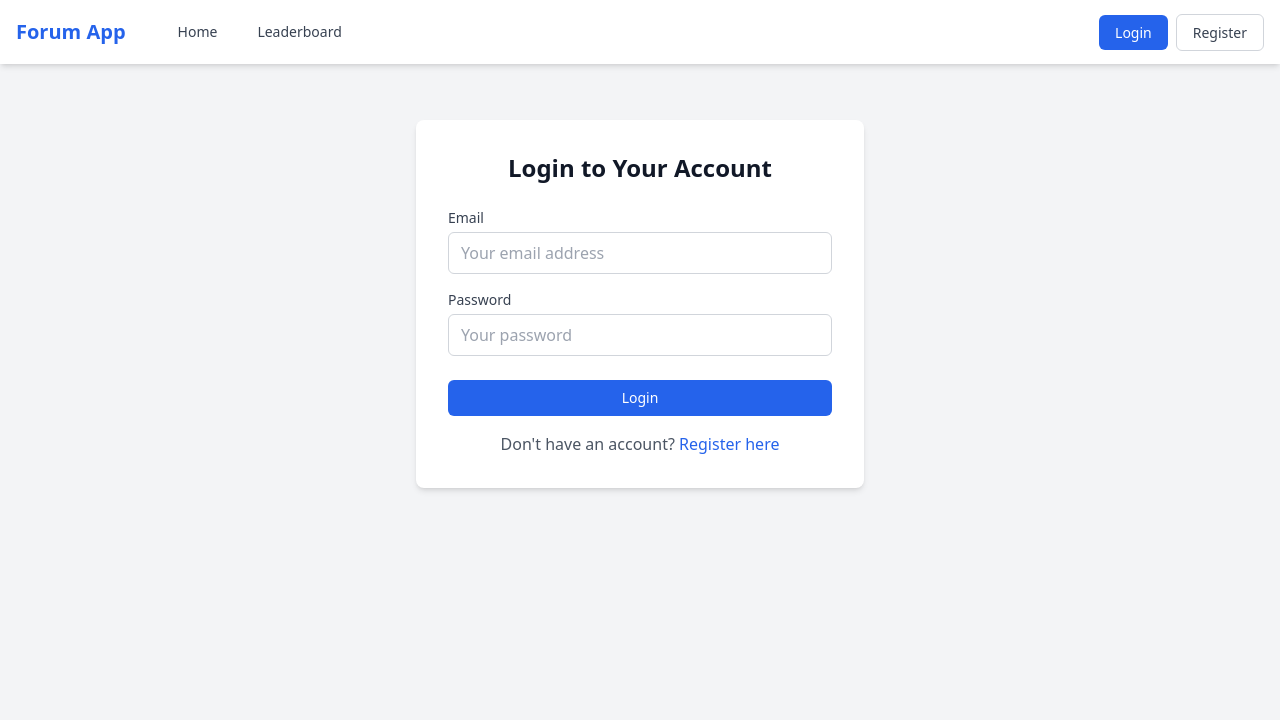
Test: Login Page › should show error message on login failure
Note: Find first input (email)
Type "wrong@example.com" into the field labelled "Email" at coordinates (640, 253), box [448,232,832,274]
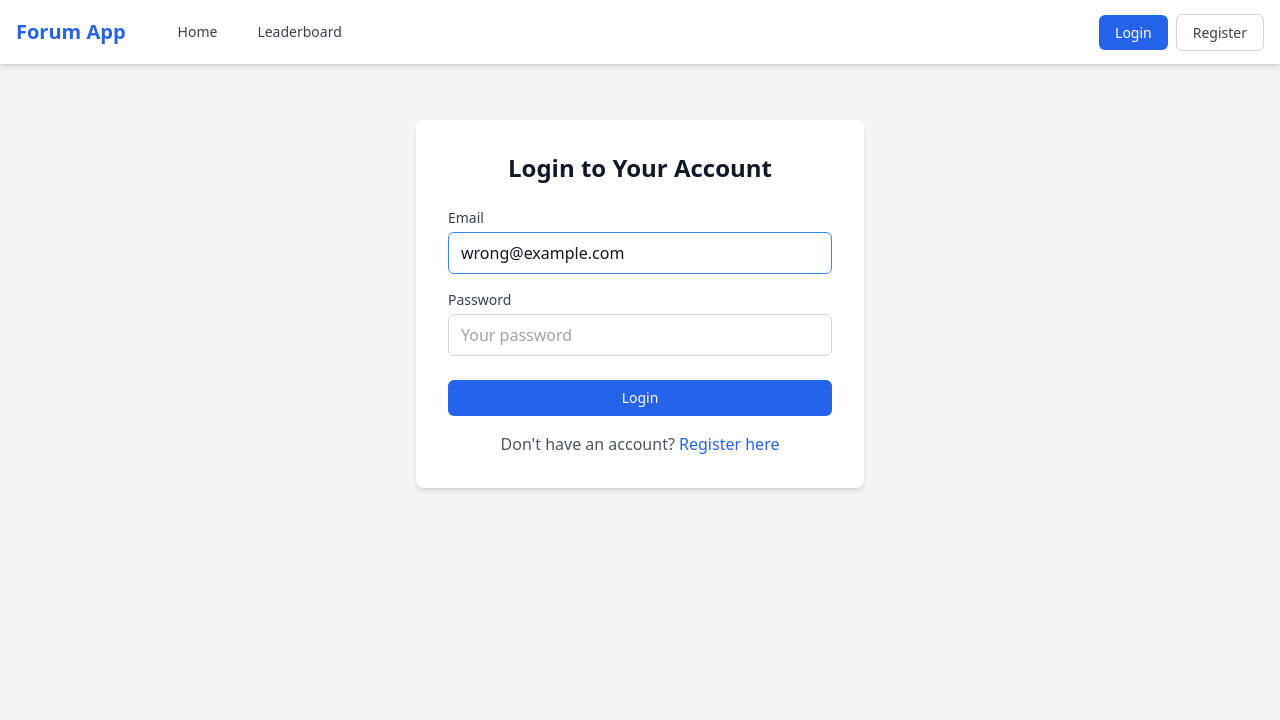
Note: Find password input
Type "wrongpassword" into the password field labelled "Password" at coordinates (640, 335), box [448,314,832,356]
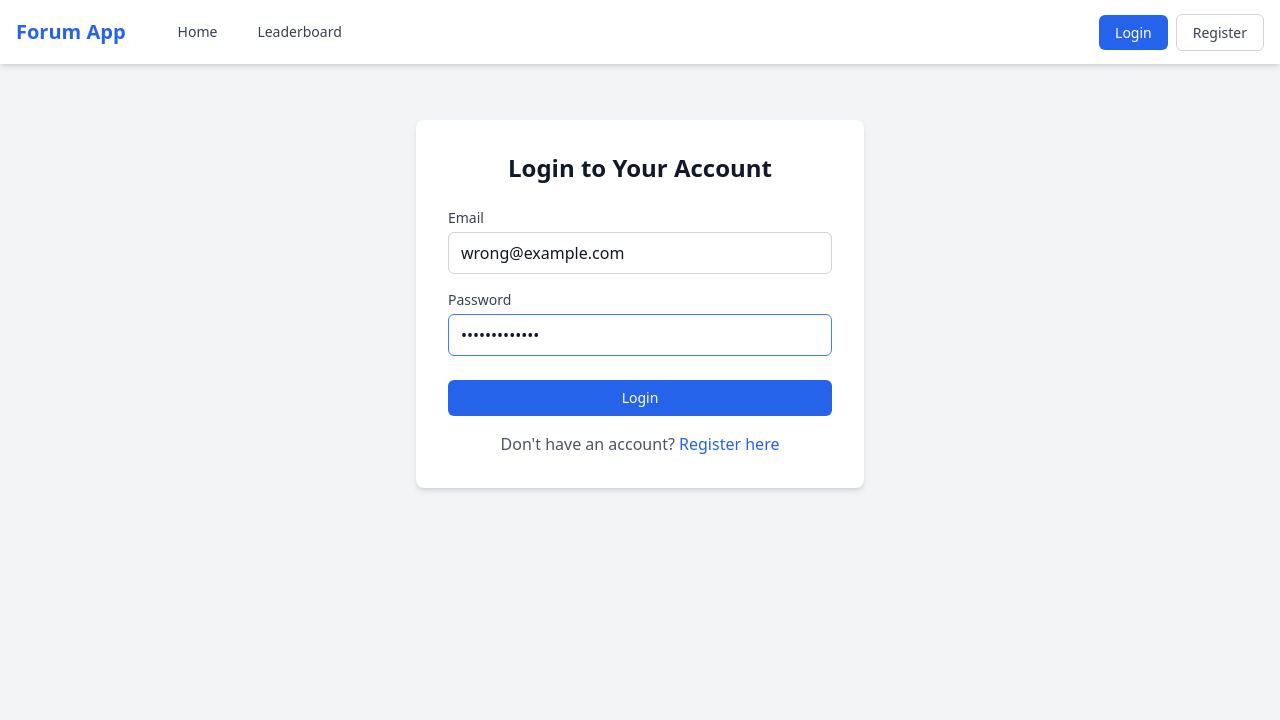
Note: Submit form by clicking button
Click the button "Login" at coordinates (640, 398), box [448,380,832,416]
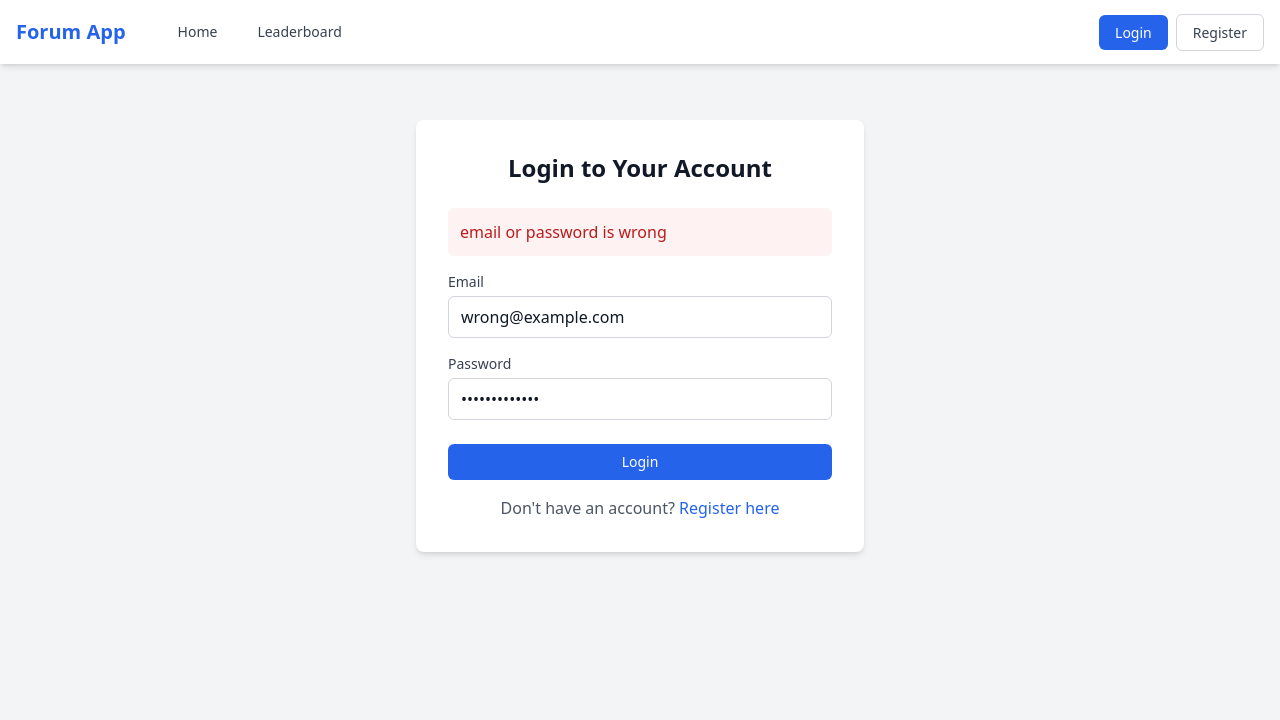
Now the message "email or password is wrong" is shown, box [448,208,832,256]
